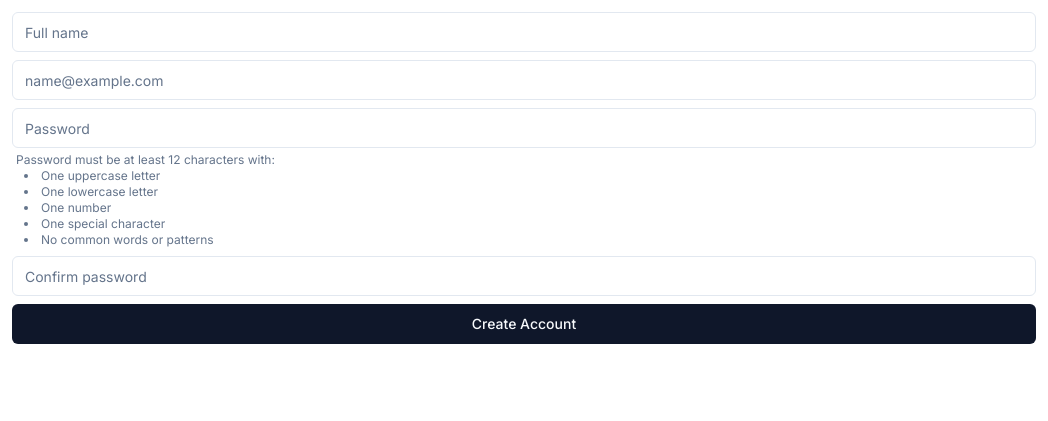
Test: UserAuthForm › Register Mode › should validate all required fields in registration
# Try to submit without filling fields
Step 1. Click the button "Create Account" → [524, 324], box [12,304,1036,344]
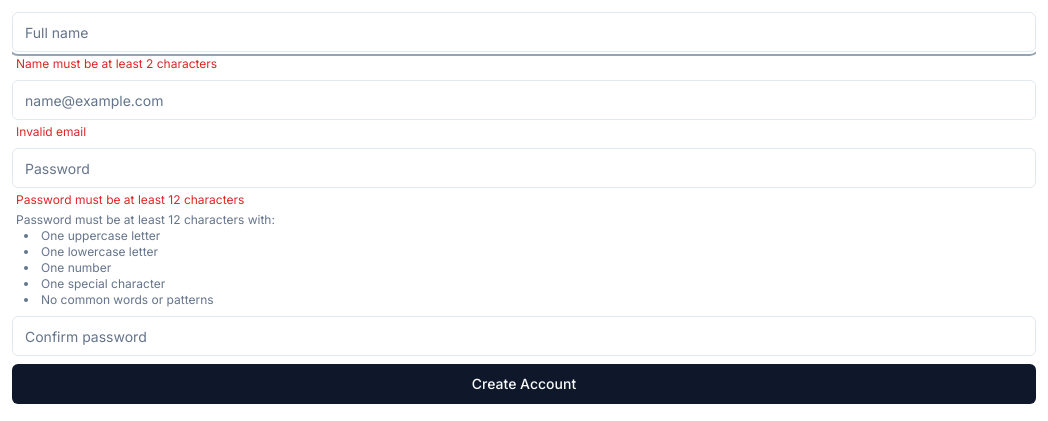
Expected: the text "Name must be at least 2 characters" is shown, [16,56,217,71]
Expected: the text "Invalid email" is shown, [16,124,86,139]
Expected: the text "Password must be at least 12 characters" is shown, [16,192,244,207]
